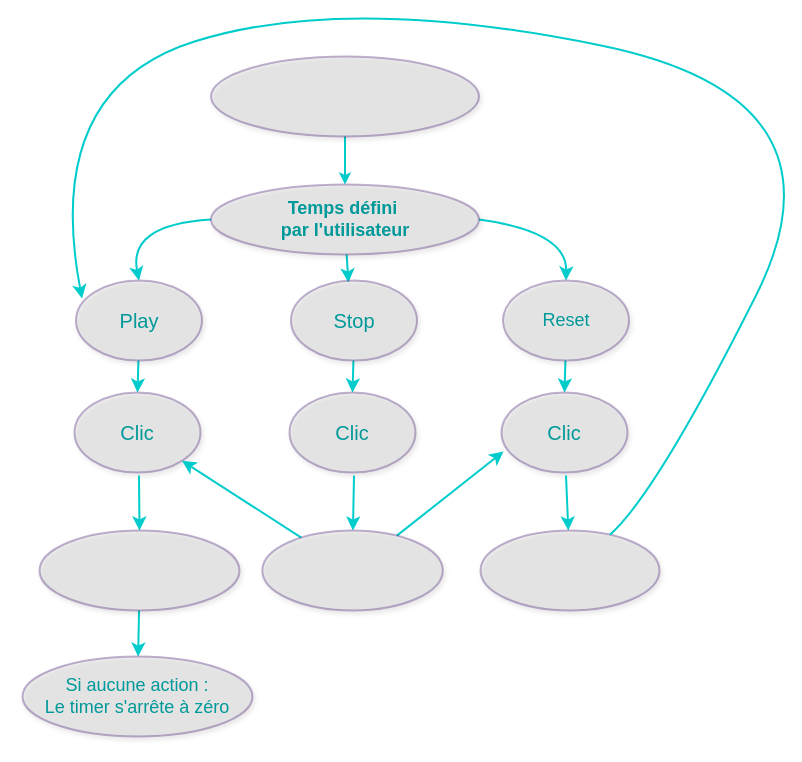
This 802x762 diagram has some shape labels left out. Here are the shapes that lost their labels. From the top down, the centre of each, then its label:
At pixel 346 97: "Compte à Rebours Heures/minutes/secondes".
At pixel 140 571: "Démarre le Décompte".
At pixel 353 571: "Stoppe le Décompte".
At pixel 570 571: "Remise à zéro".
